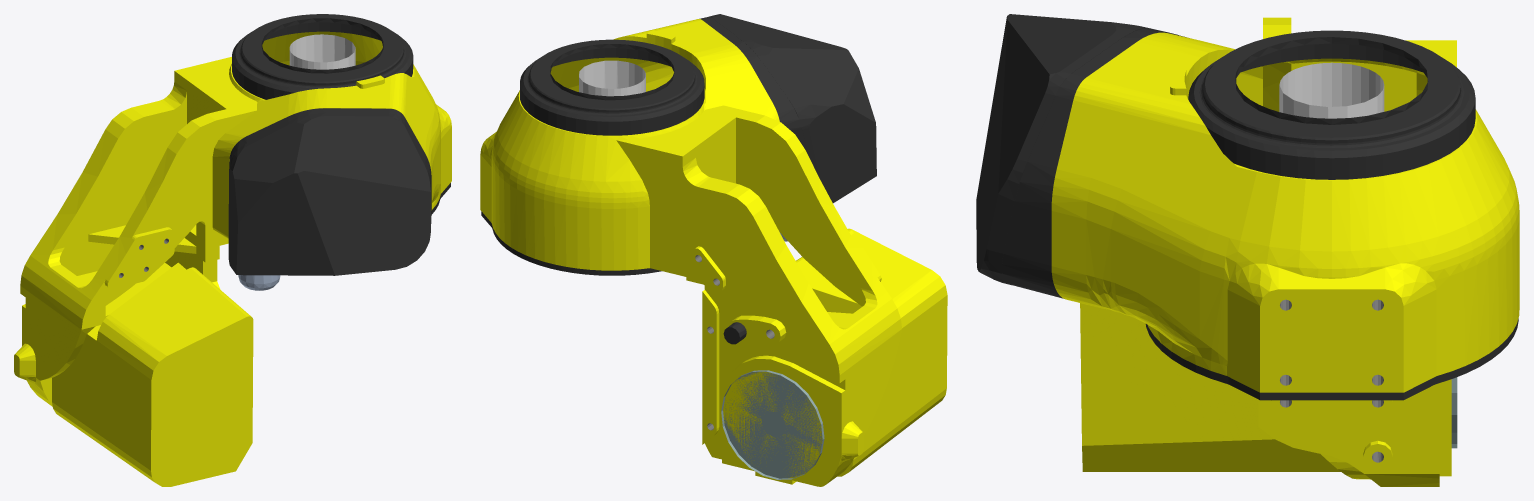
3 renders of one model, left to right at view 1: azimuth 30°, elevation 25°; view 2: azimuth 150°, elevation 25°; view 3: azimuth 270°, elevation 25°, orthographic. The views are drawn at different scales.
Visible parts, largest first — view 1: node; view 2: node; view 3: node.
Boxes of the visible parts, left/top/right/bottom form: node: left=14, top=14, right=451, bottom=486; node: left=480, top=14, right=947, bottom=486; node: left=976, top=14, right=1519, bottom=486.
Bounding box in the file's own units: 379 × 316 × 295.
